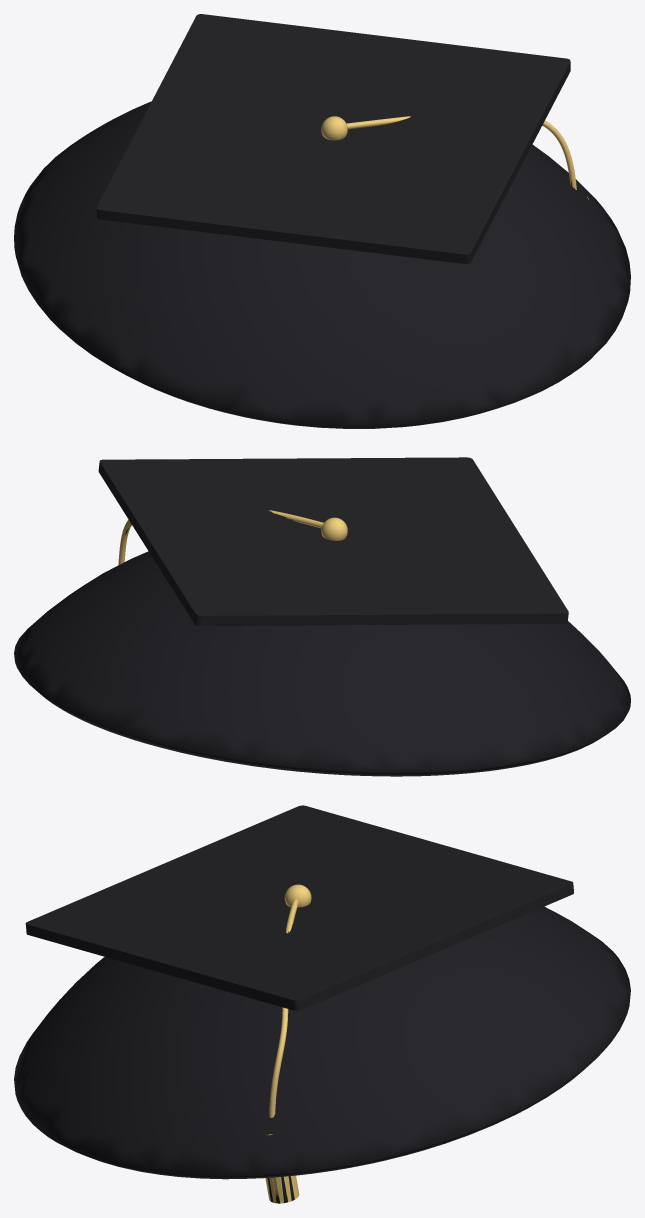
Rendered from wear-mortarboard.glb.
3 views of the same model, one above another, from view 1: azimuth 30°, elevation 25°; view 2: azimuth 150°, elevation 25°; view 3: azimuth 270°, elevation 25° (orthographic).
Visible parts, largest first — view 1: mortarboard; view 2: mortarboard; view 3: mortarboard.
Boxes of the visible parts, x1=… form: mortarboard: x1=14, y1=14, x2=630, y2=428; mortarboard: x1=14, y1=457, x2=630, y2=776; mortarboard: x1=14, y1=805, x2=630, y2=1203.
Size of the model in its own units: 1.63 by 0.5883 by 1.61.
Materials: 2 (2 with a texture image).
